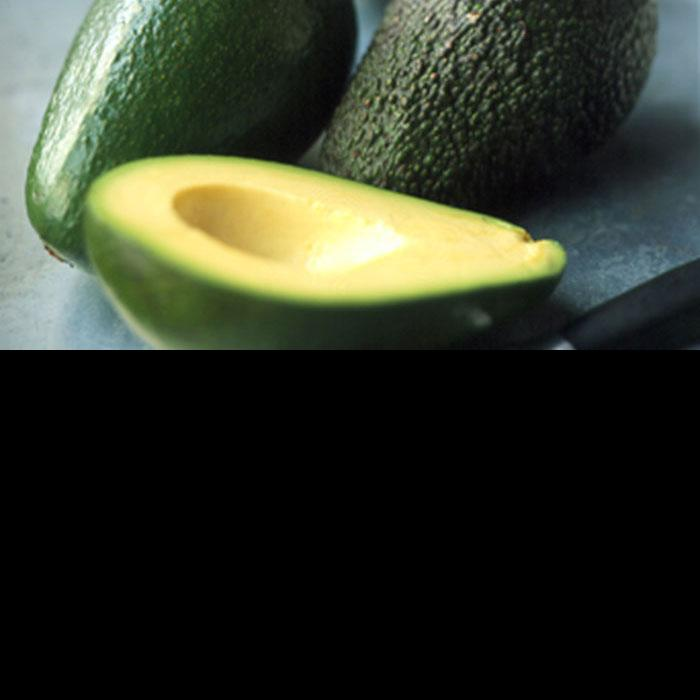unripe: (25, 1, 359, 276), (319, 1, 659, 220)
